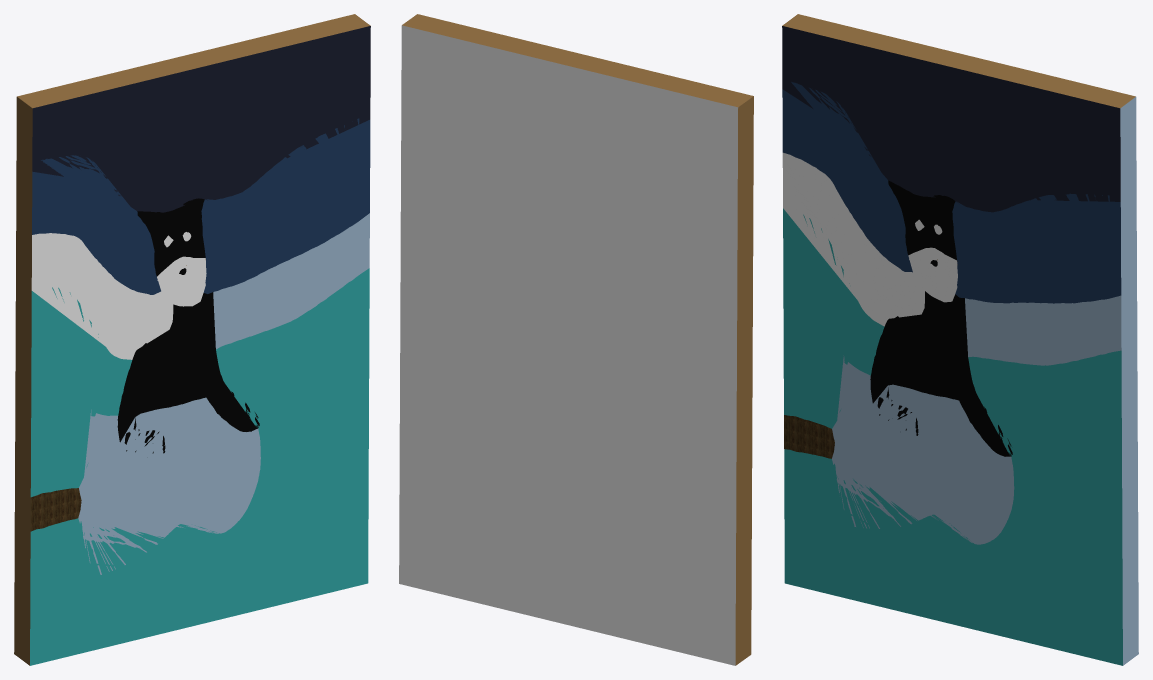
File: Cuadro4.obj
3 views of the same model, side by side, from view 1: azimuth 30°, elevation 25°; view 2: azimuth 150°, elevation 25°; view 3: azimuth 330°, elevation 25° (orthographic).
Parts seen in each view (by area): view 1: Mesh19Model; view 2: Mesh19Model; view 3: Mesh19Model.
Part boxes in pixels (x1,y1,x2,y2): Mesh19Model: (14,14,370,665); Mesh19Model: (399,14,753,665); Mesh19Model: (782,14,1138,665).
Bounding box in the file's own units: 0.74 × 1.17 × 0.07.
8 materials, 8 textured.
